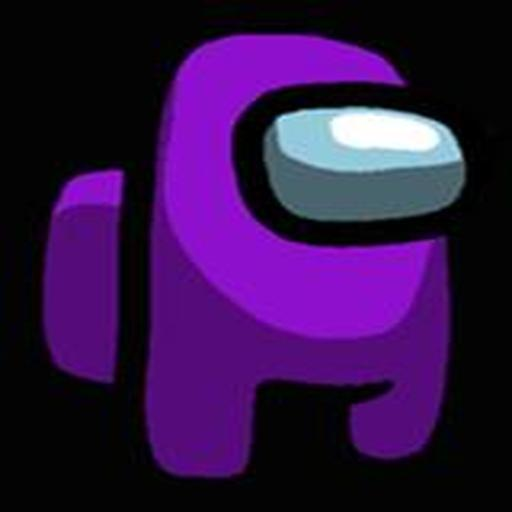Crewmate: (37, 26, 486, 481)
